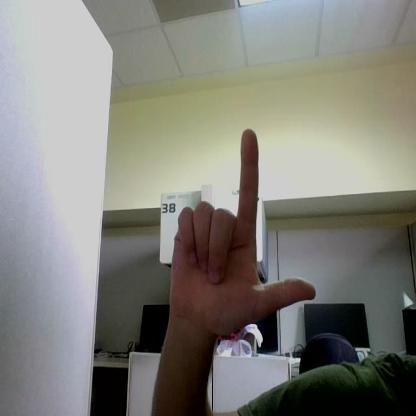L: (169, 128, 315, 336)
